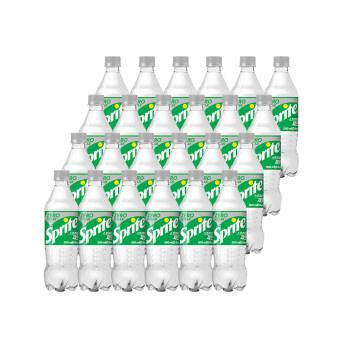sprite_zero: (38, 166, 83, 297), (214, 174, 250, 296), (115, 173, 150, 294), (144, 171, 178, 295), (177, 173, 211, 296), (79, 170, 111, 292)
